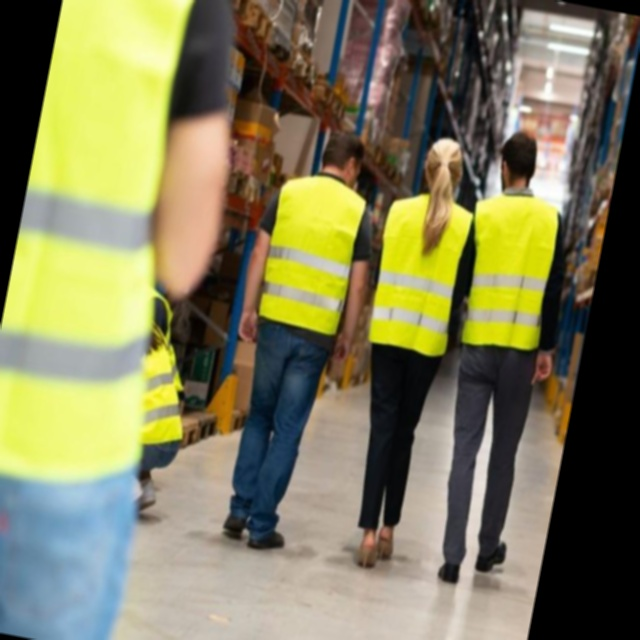Con_Chaleco: (357, 183, 481, 363), (253, 167, 374, 338), (450, 184, 568, 355)
